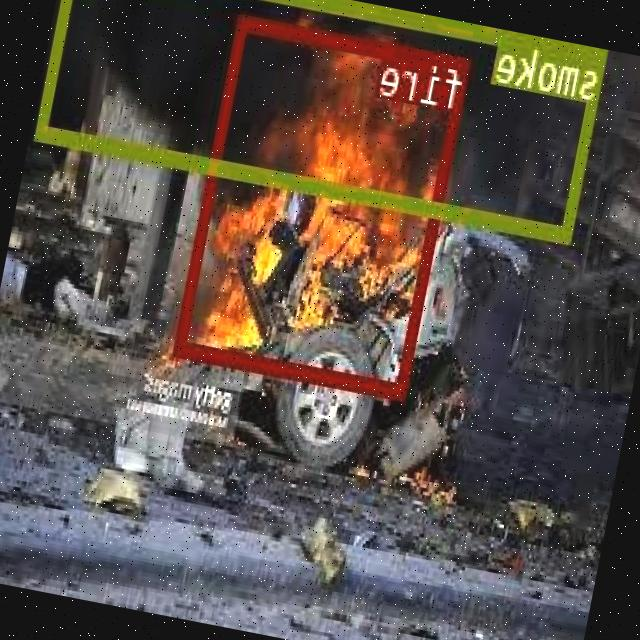fire: (177, 14, 473, 397)
smoke: (38, 0, 608, 242)
